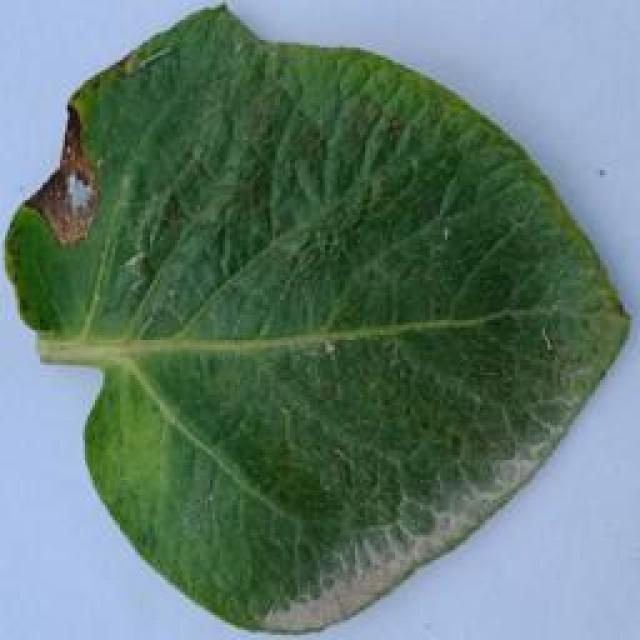Potato_Late_Blight: (5, 4, 619, 632)
